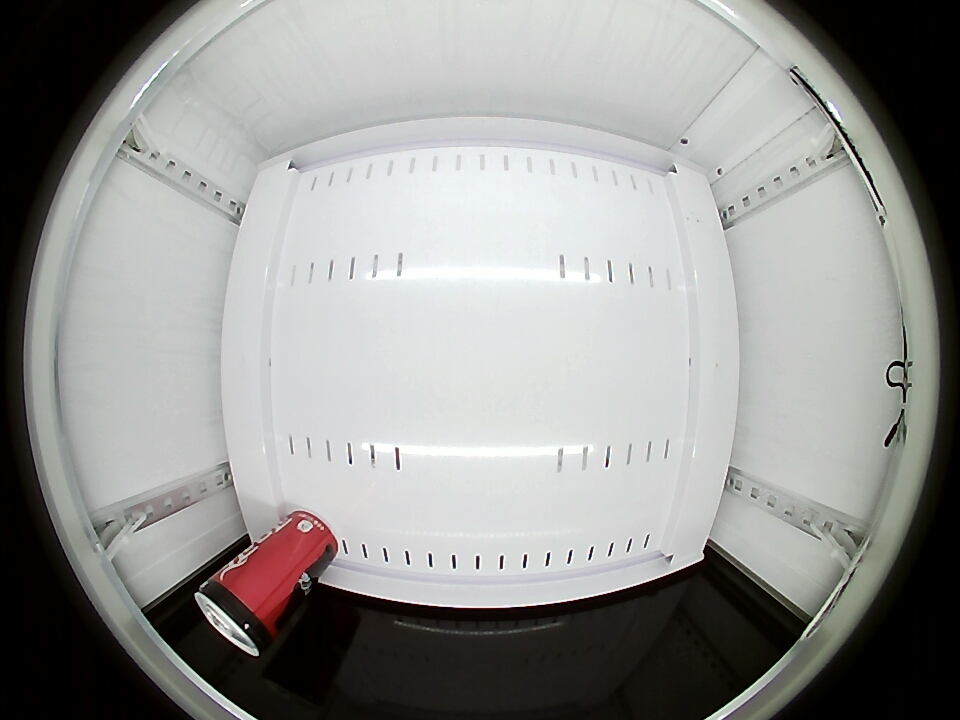lingdukele: (196, 574, 281, 657)
